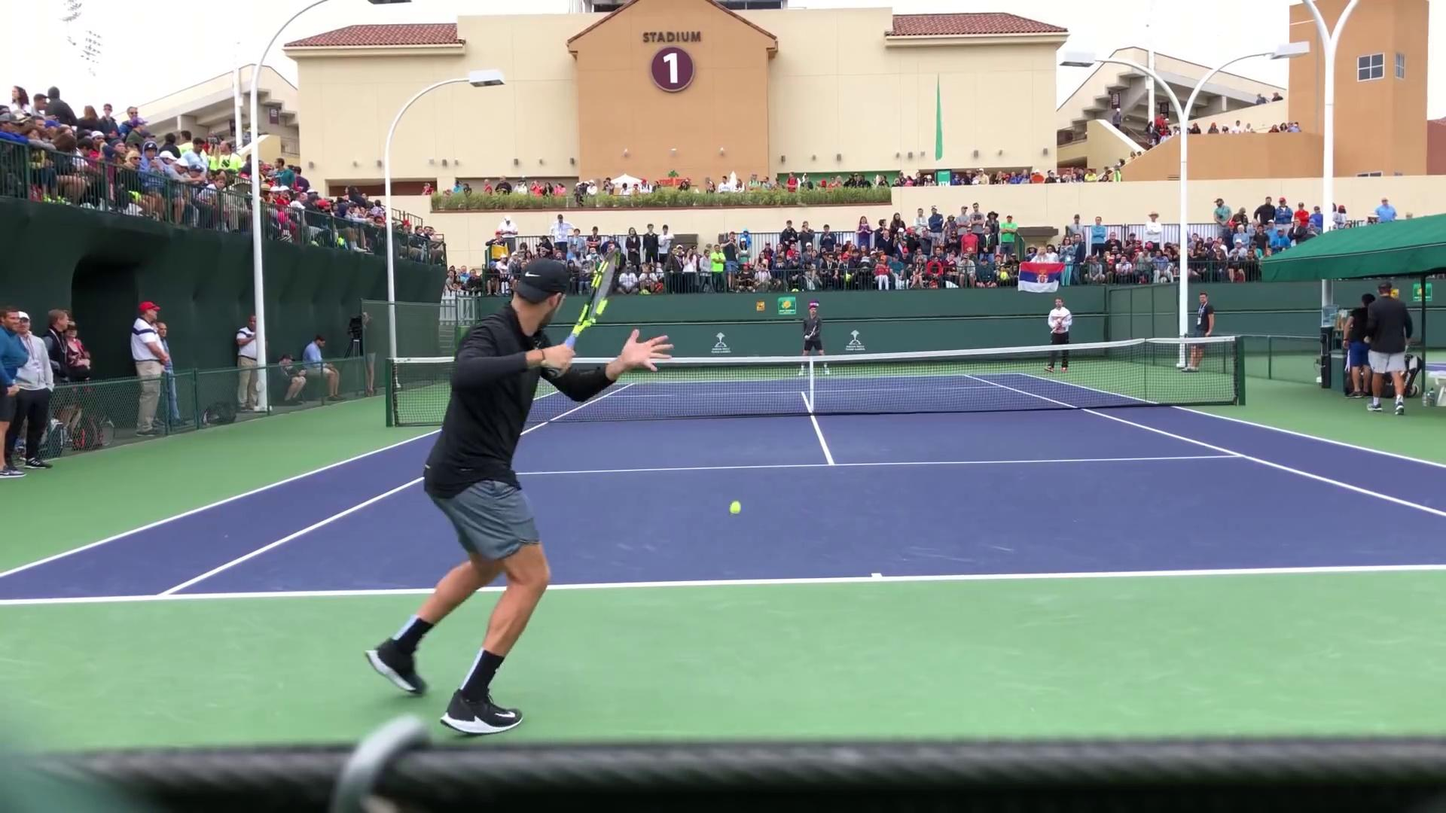ball: (726, 499, 743, 515)
